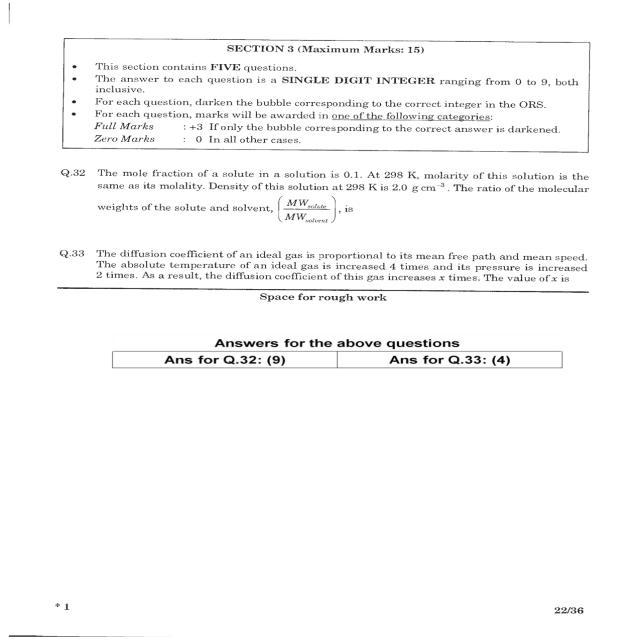Description: (24, 327, 612, 381)
Instruction: (24, 12, 612, 152)
Question_Answer_Block: (24, 155, 612, 240), (24, 241, 612, 291)
Question_Block: (24, 155, 612, 240), (24, 241, 612, 291)
Question_Paper_Area: (24, 12, 612, 520)
